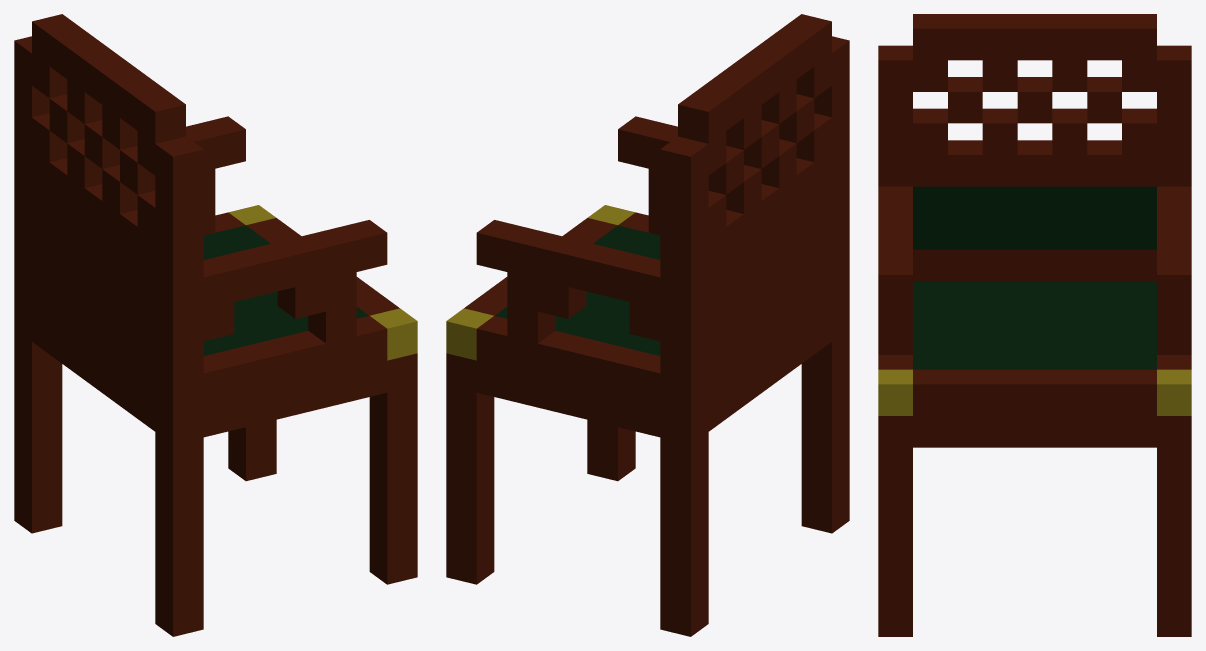
File: Chair02.gltf
3 renders of one model, left to right at view 1: azimuth 30°, elevation 25°; view 2: azimuth 150°, elevation 25°; view 3: azimuth 270°, elevation 25°, orthographic.
Parts seen in each view (by area): view 1: Layer.1; view 2: Layer.1; view 3: Layer.1.
Boxes of the visible parts, bbox=[...] form: Layer.1: bbox=[14, 14, 417, 636]; Layer.1: bbox=[446, 14, 849, 636]; Layer.1: bbox=[878, 14, 1191, 636].
Bounding box in the file's own units: 8 × 16 × 9.
